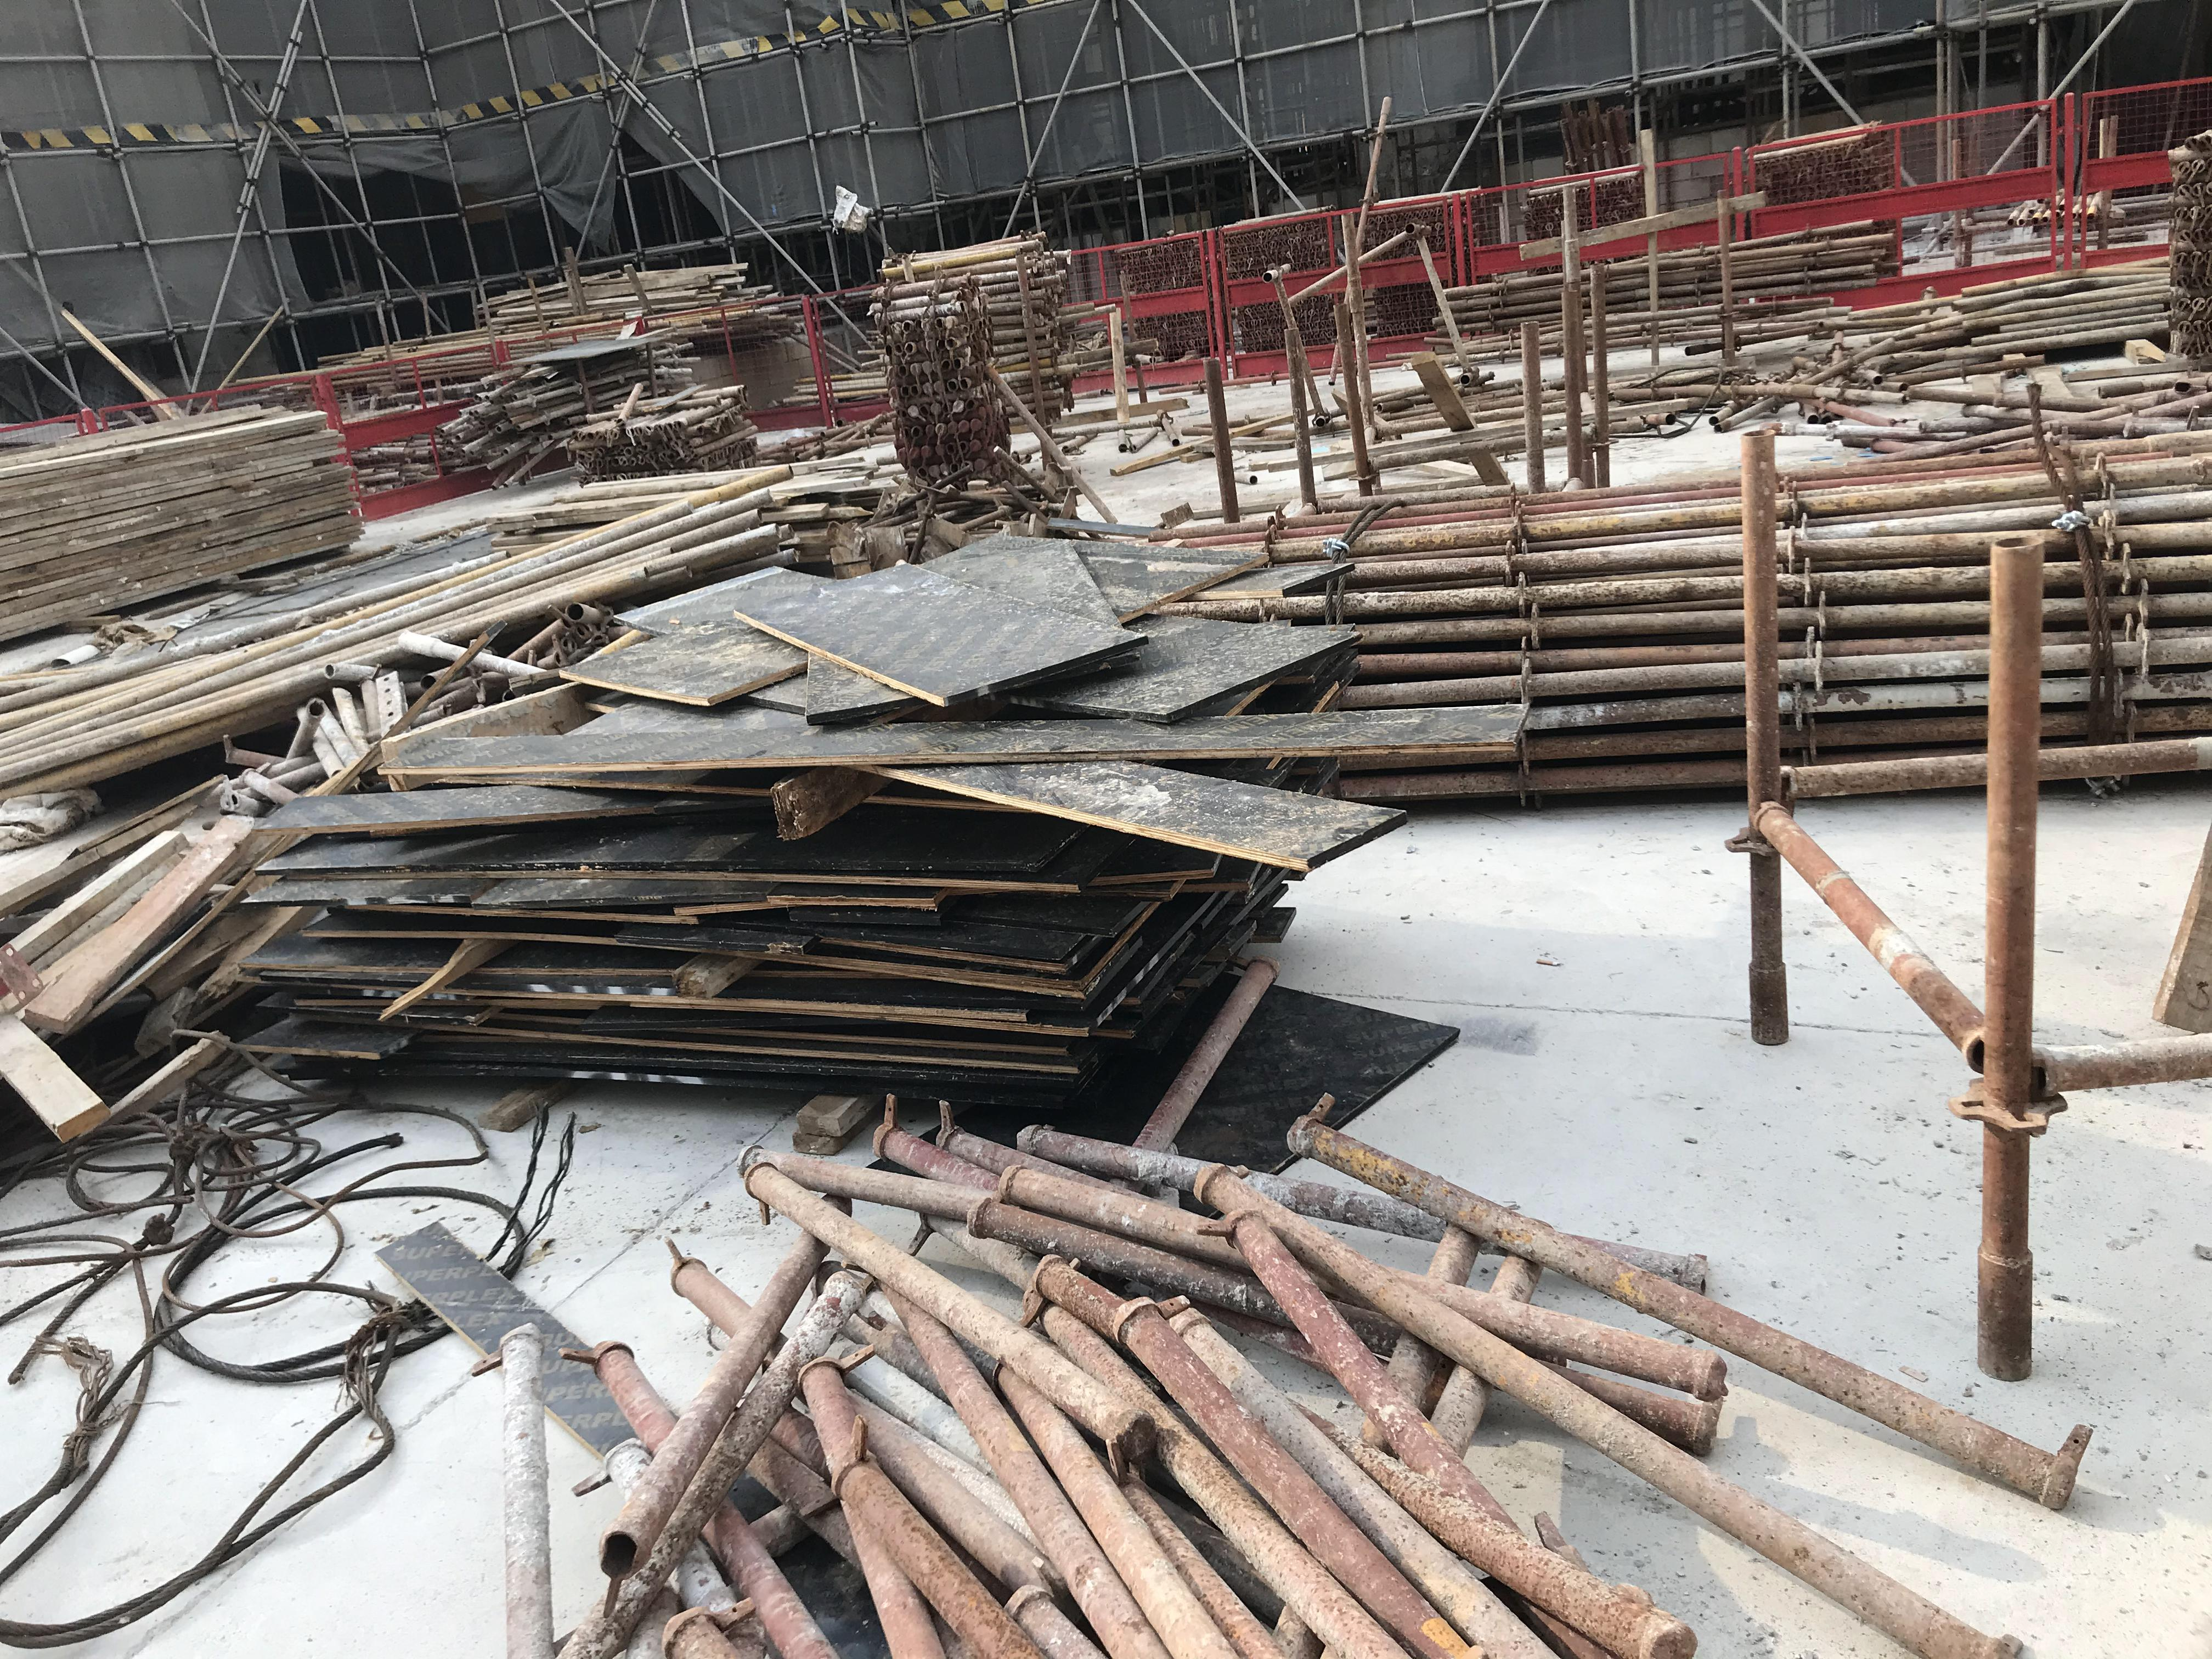board: (273, 622, 1345, 1096)
scaffold: (1310, 434, 2212, 805), (456, 326, 697, 498), (897, 232, 1071, 429), (874, 275, 1000, 479), (578, 383, 752, 474), (364, 437, 444, 484)
wood: (0, 401, 361, 641)
